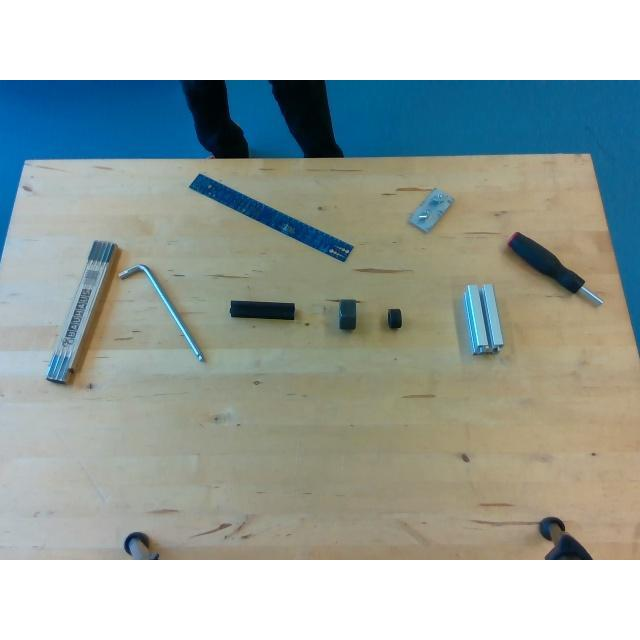AllenKey: (118, 264, 206, 364)
F20_20_B: (229, 300, 293, 320)
M20: (386, 307, 402, 329)
M30: (338, 298, 358, 330)
S40_40_G: (462, 283, 502, 353)
